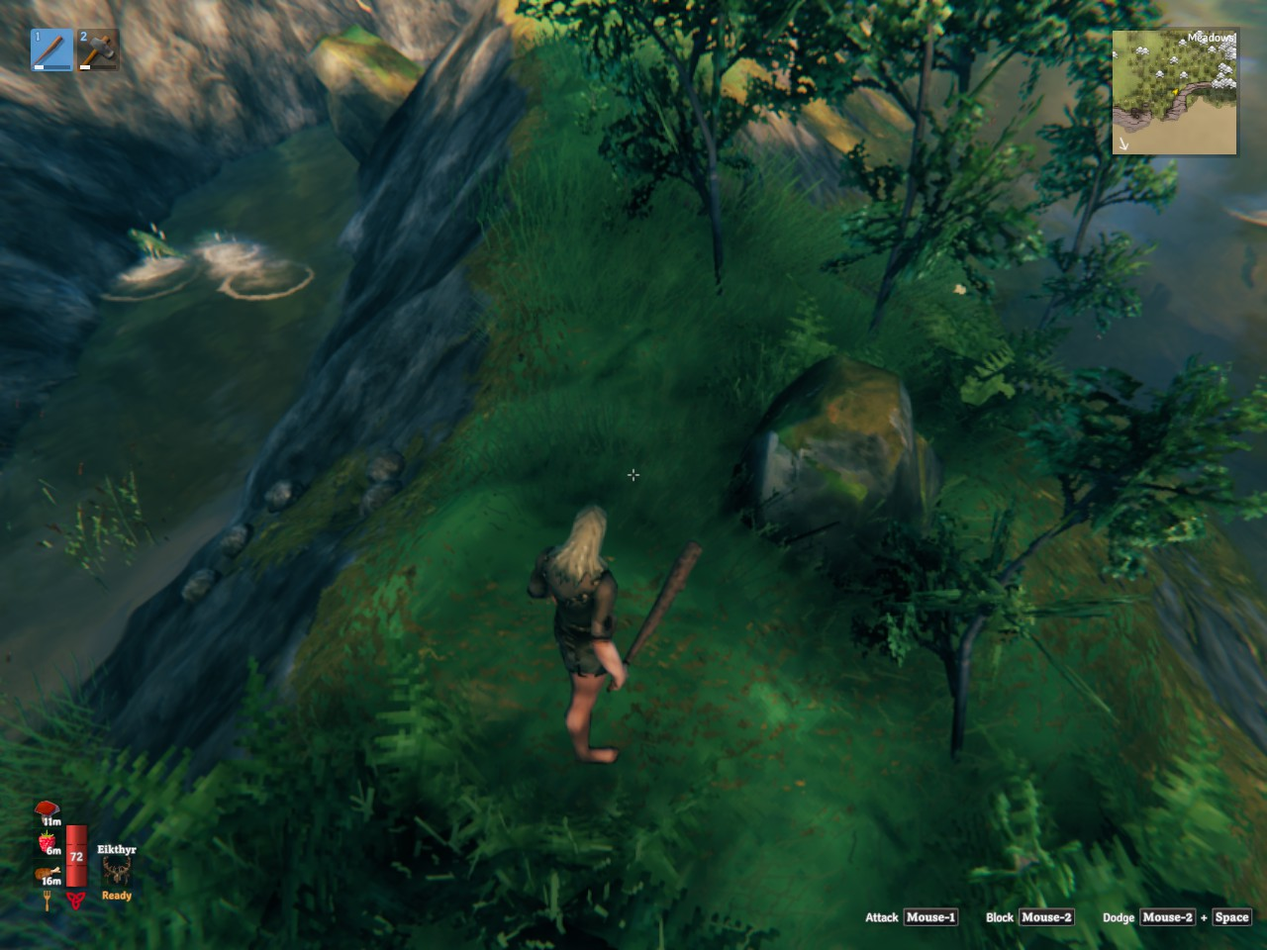Food Indicator: (36, 797, 63, 891)
Health Bar: (63, 820, 90, 891)
Hotbar: (25, 21, 398, 78)
Neck: (129, 222, 185, 256)
Stone: (182, 569, 220, 603), (265, 479, 303, 513), (367, 450, 405, 482), (221, 523, 252, 557)
